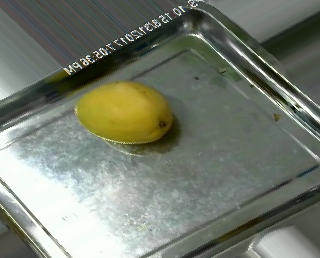Mango: (74, 80, 175, 149)
